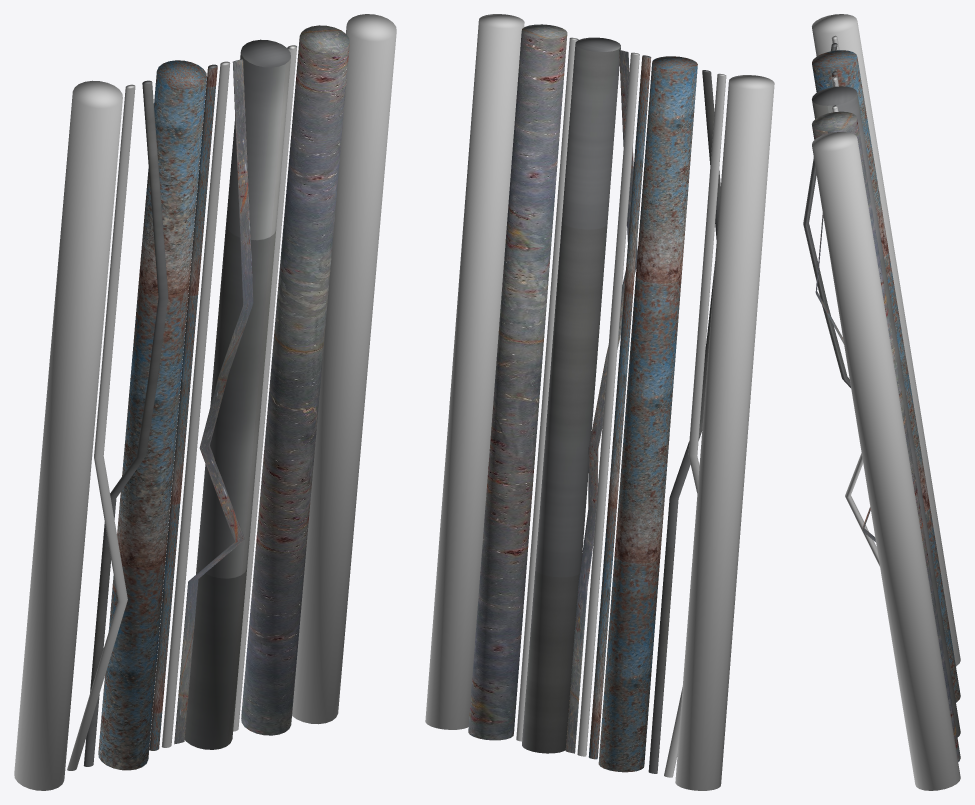
The model's file is wall piece.fbx.
The picture shows the model from 3 angles, left to right: view 1: azimuth 30°, elevation 25°; view 2: azimuth 150°, elevation 25°; view 3: azimuth 270°, elevation 25°; orthographic projection. The views are drawn at different scales.
Parts seen in each view (by area): view 1: pCylinder1, pCylinder5, pCylinder2, pCylinder4, pCylinder3, pCylinder7, pCylinder6, pCylinder11, pCylinder9, pCylinder10, pCylinder13; view 2: pCylinder1, pCylinder4, pCylinder5, pCylinder3, pCylinder2, pCylinder9, pCylinder6, pCylinder7, pCylinder13, pCylinder11, pCylinder10; view 3: pCylinder2, pCylinder4, pCylinder5, pCylinder3, pCylinder1, pCylinder10, pCylinder11, pCylinder7.
Boxes of the visible parts, left/top/right/bottom form: pCylinder1: left=241, top=25, right=349, bottom=735; pCylinder5: left=14, top=80, right=122, bottom=790; pCylinder2: left=292, top=14, right=396, bottom=724; pCylinder4: left=98, top=60, right=206, bottom=770; pCylinder3: left=184, top=39, right=290, bottom=749; pCylinder7: left=174, top=59, right=253, bottom=744; pCylinder6: left=149, top=64, right=217, bottom=750; pCylinder11: left=67, top=84, right=135, bottom=770; pCylinder9: left=161, top=61, right=230, bottom=747; pCylinder10: left=83, top=80, right=168, bottom=766; pCylinder13: left=233, top=45, right=296, bottom=731; pCylinder1: left=468, top=24, right=567, bottom=740; pCylinder4: left=598, top=56, right=697, bottom=772; pCylinder5: left=675, top=75, right=774, bottom=790; pCylinder3: left=522, top=37, right=620, bottom=753; pCylinder2: left=425, top=14, right=524, bottom=729; pCylinder9: left=577, top=52, right=639, bottom=756; pCylinder6: left=588, top=55, right=651, bottom=759; pCylinder7: left=565, top=50, right=637, bottom=753; pCylinder13: left=516, top=37, right=578, bottom=741; pCylinder11: left=664, top=73, right=726, bottom=777; pCylinder10: left=648, top=70, right=720, bottom=773; pCylinder2: left=812, top=132, right=960, bottom=790; pCylinder4: left=812, top=50, right=960, bottom=702; pCylinder5: left=812, top=14, right=960, bottom=666; pCylinder3: left=812, top=86, right=960, bottom=737; pCylinder1: left=812, top=111, right=960, bottom=761; pCylinder10: left=803, top=43, right=850, bottom=387; pCylinder11: left=831, top=35, right=879, bottom=566; pCylinder7: left=815, top=82, right=875, bottom=541.
Size of the model in its own units: 5.68 by 12.53 by 2.77.
